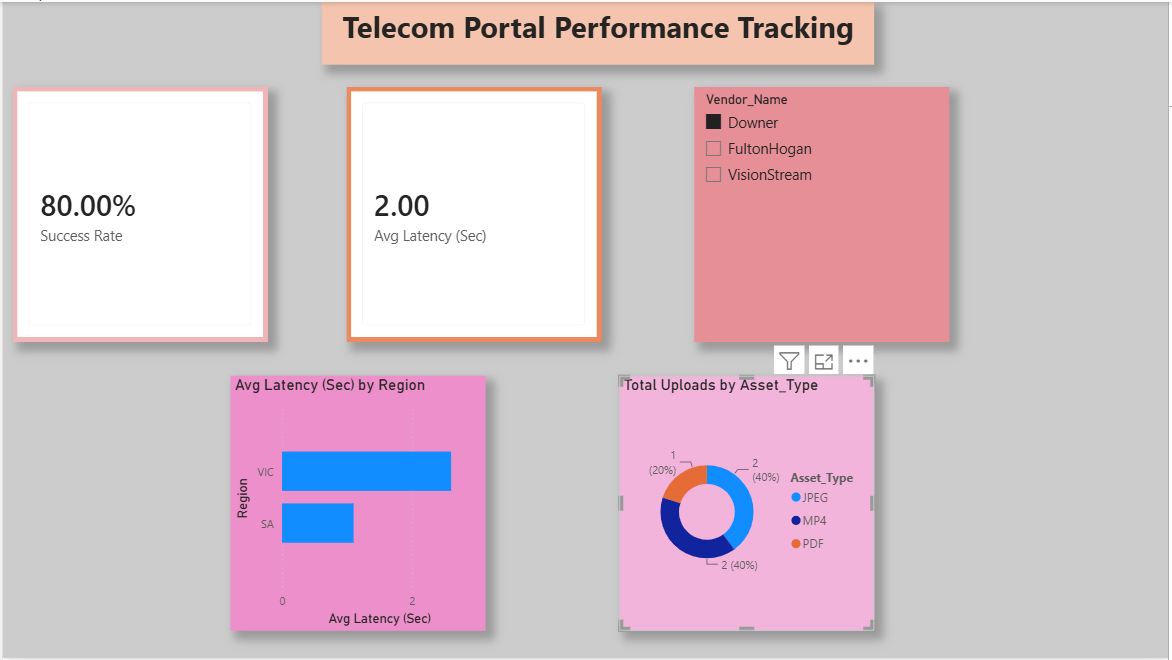

Layout of this report page (visuals, bound fields, positions):
{"tool":"powerbi","page":{"name":"Page 1","canvas":[1280,720],"ordinal":0},"visuals":[{"type":"cardVisual","fields":{"Data":["_Measures.Success Rate"]},"box":[10,0,280,280],"z":0},{"type":"cardVisual","fields":{"Data":["_Measures.Avg Latency (Sec)"]},"box":[376,0,279.9,279.9],"z":1},{"type":"clusteredBarChart","fields":{"Category":["Fact_Portal_Logs.Region"],"Y":["_Measures.Avg Latency (Sec)"]},"box":[9.6,345.8,279.9,279.9],"z":2},{"type":"donutChart","fields":{"Category":["Fact_Portal_Logs.Asset_Type"],"Y":["_Measures.Total Uploads"]},"box":[376,346,280,280],"z":3},{"type":"slicer","fields":{"Values":["Fact_Portal_Logs.Vendor_Name"]},"box":[742.4,0,279.9,279.9],"z":4}]}

Visuals, with their boxes in screenshot pixels (x1, y1, x2, y2), scaled from the page's 1280x720 canvas onto the 1172x660 screenshot:
cardVisual - _Measures.Success Rate: {"x1": 9, "y1": 0, "x2": 266, "y2": 257}
cardVisual - _Measures.Avg Latency (Sec): {"x1": 344, "y1": 0, "x2": 601, "y2": 257}
clusteredBarChart - Fact_Portal_Logs.Region x _Measures.Avg Latency (Sec): {"x1": 9, "y1": 317, "x2": 265, "y2": 574}
donutChart - Fact_Portal_Logs.Asset_Type x _Measures.Total Uploads: {"x1": 344, "y1": 317, "x2": 601, "y2": 574}
slicer - Fact_Portal_Logs.Vendor_Name: {"x1": 680, "y1": 0, "x2": 936, "y2": 257}
